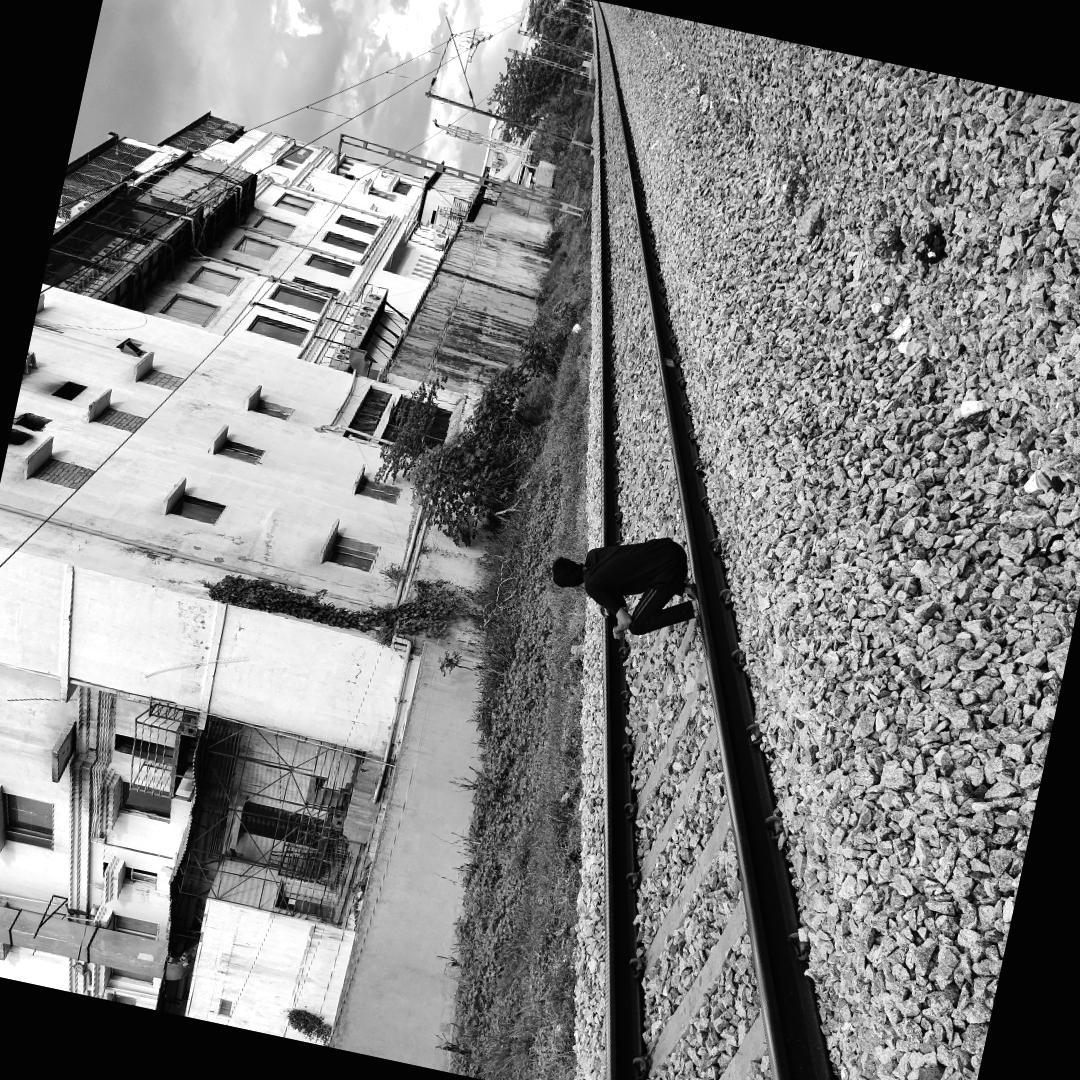sitting: (539, 521, 713, 653)
